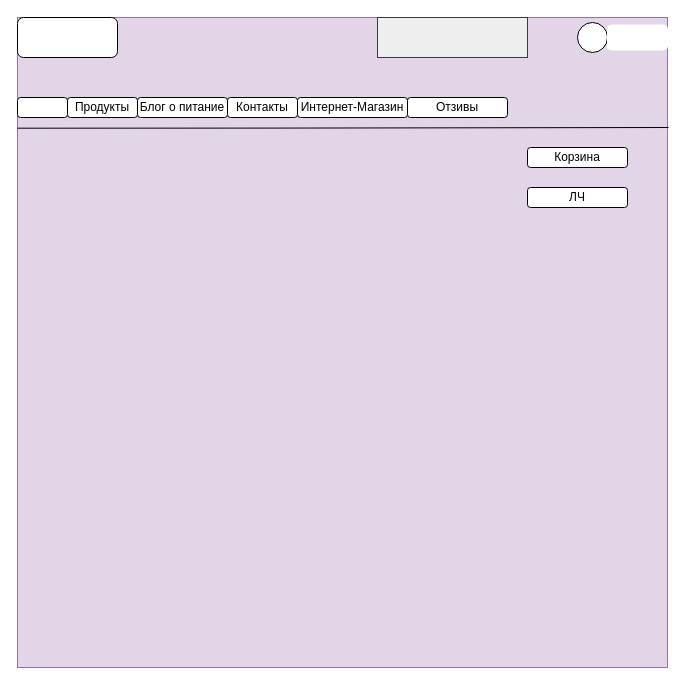
Some shapes in this 687 by 685 pixel diagram are drawn without their labels. The shapes that lost their labels are listed below. From the top down, each one's box as (x1, y1, x2, y2) in pixels, then its label:
(16, 16, 118, 58): LOGO
(376, 16, 528, 58): Главная страница
(606, 24, 668, 50): войты
(16, 96, 68, 118): О НАС
